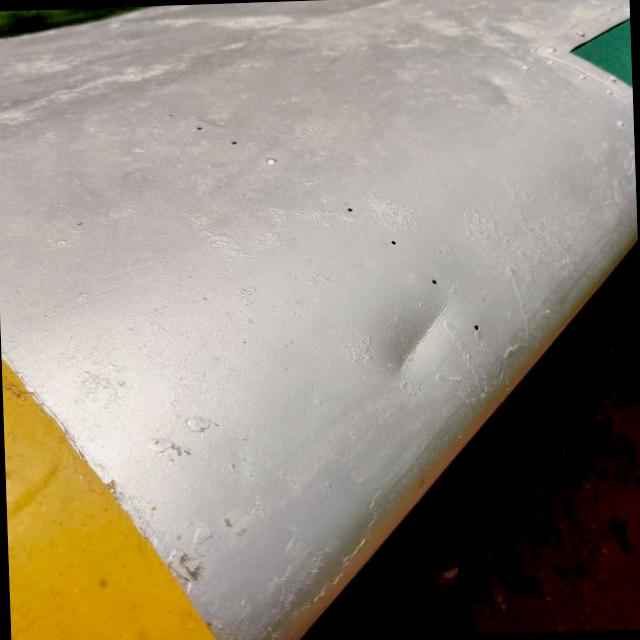dent: (347, 276, 481, 408)
